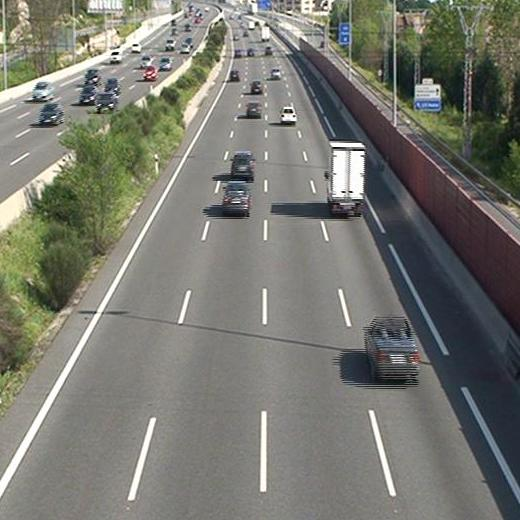car: (366, 318, 421, 381), (222, 182, 250, 212), (231, 151, 255, 179), (280, 107, 296, 123), (246, 102, 261, 117), (250, 79, 263, 93), (229, 69, 240, 81), (269, 68, 280, 79)
small-truck: (327, 142, 364, 215)
